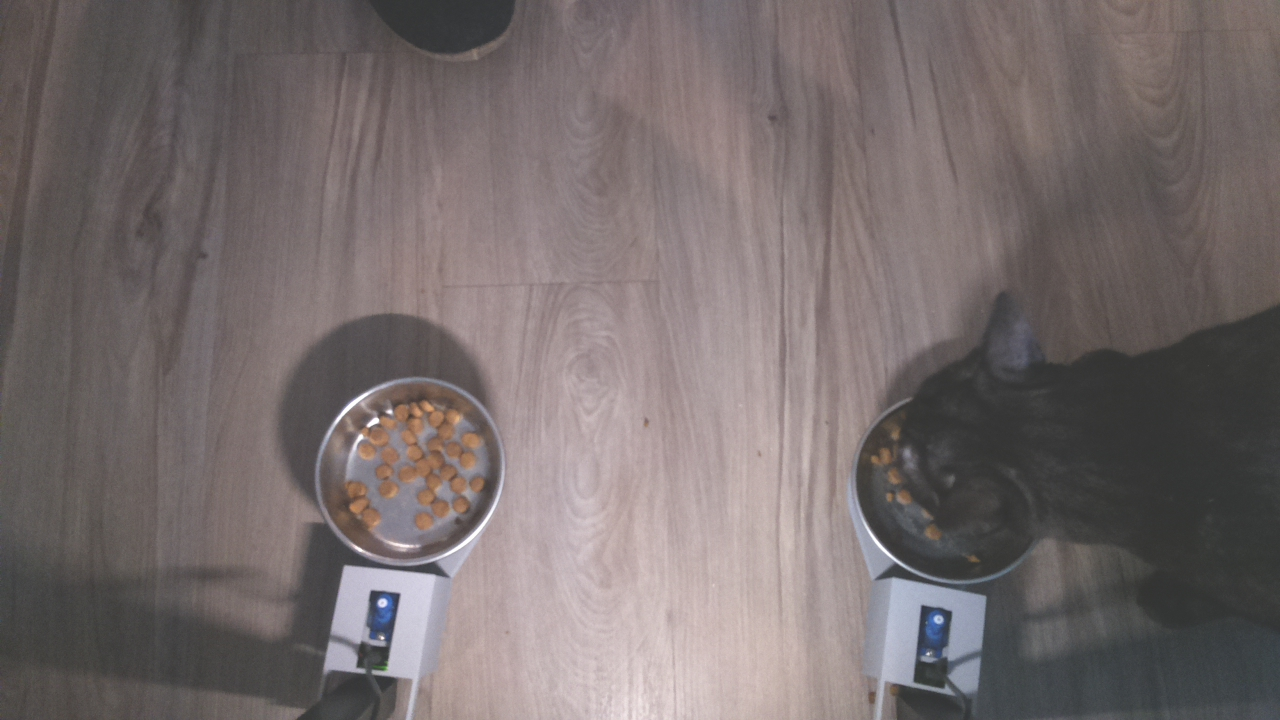open_bowl: (309, 373, 511, 572)
saki_eating: (849, 278, 1129, 601)
